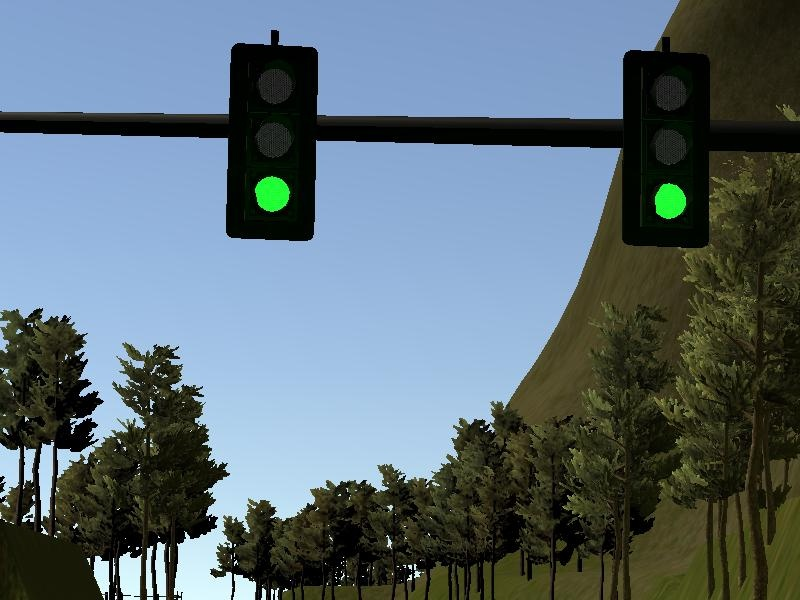green: (619, 45, 721, 255), (221, 40, 316, 249)
